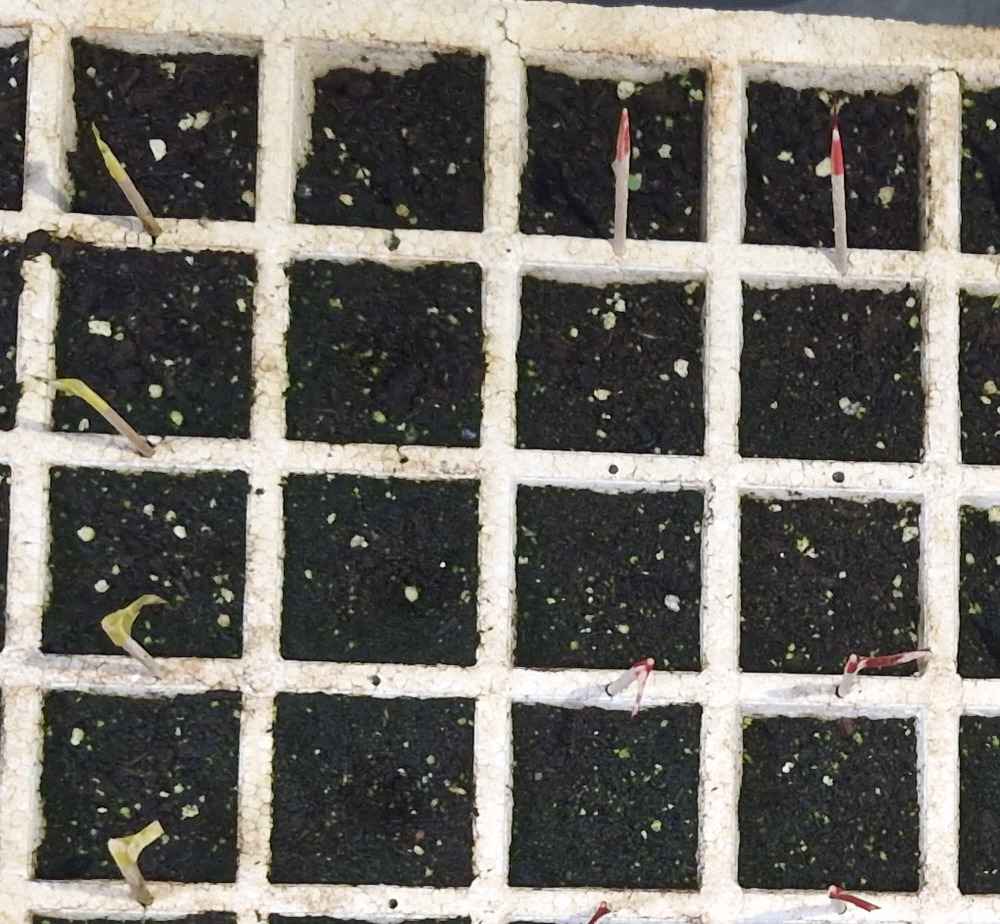Folha: (628, 175, 641, 190)
Germinacao: (628, 174, 641, 190)
